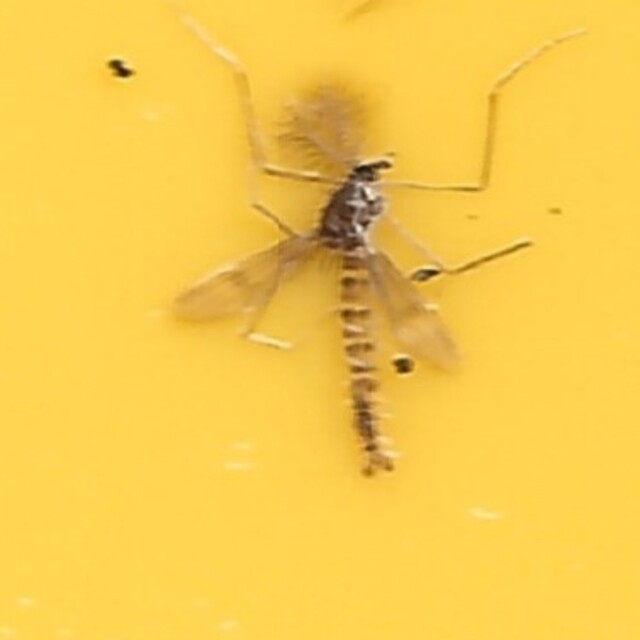Nematocera: (170, 156, 470, 484)
